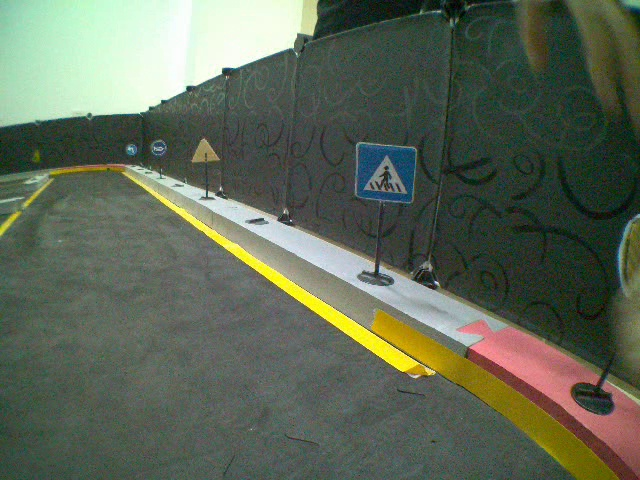crossing: (354, 139, 418, 204)
horn: (150, 138, 166, 156)
turn: (126, 143, 138, 156)
